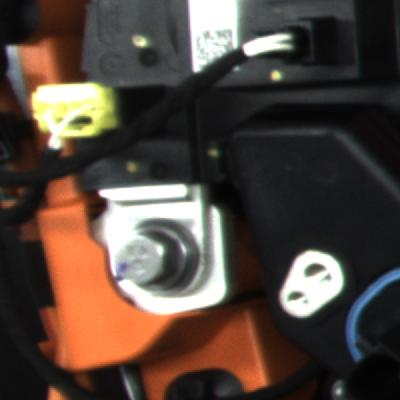nut_b: (100, 208, 210, 306)
